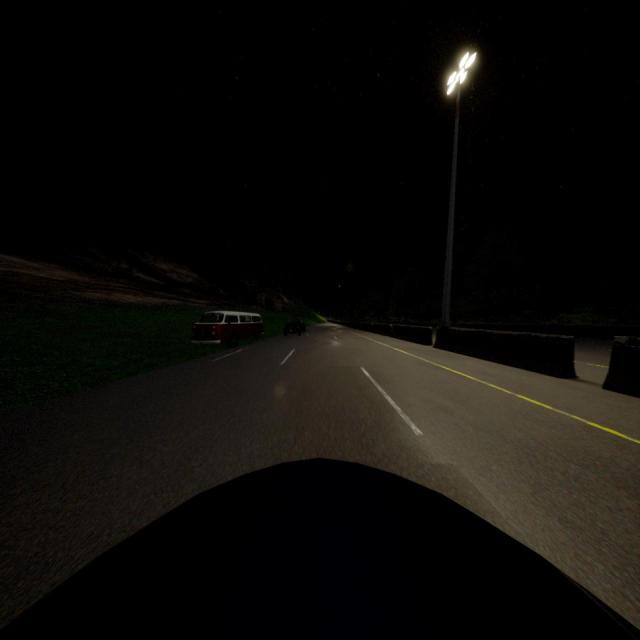Vehicle: (0, 456, 640, 640), (191, 310, 263, 346), (282, 320, 307, 338)
